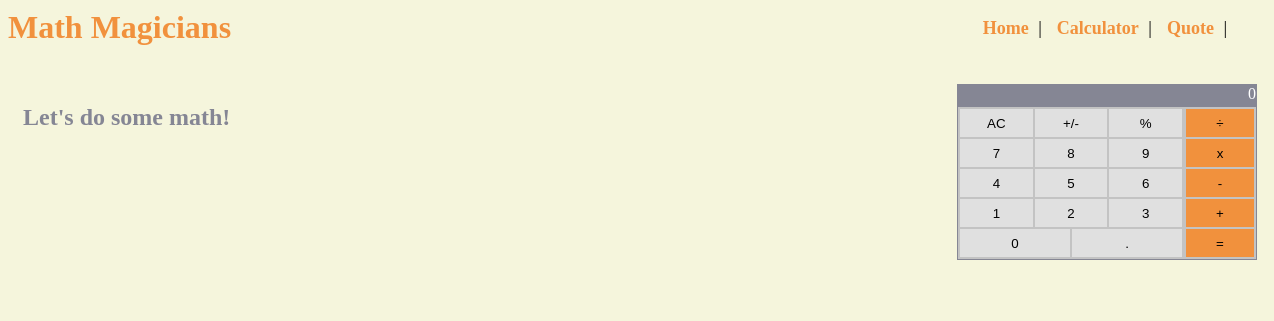
Scenario: App › Change page to Quote and check
Click the link "Quote".
click(1190, 28)  # box [1167,18,1214,38]
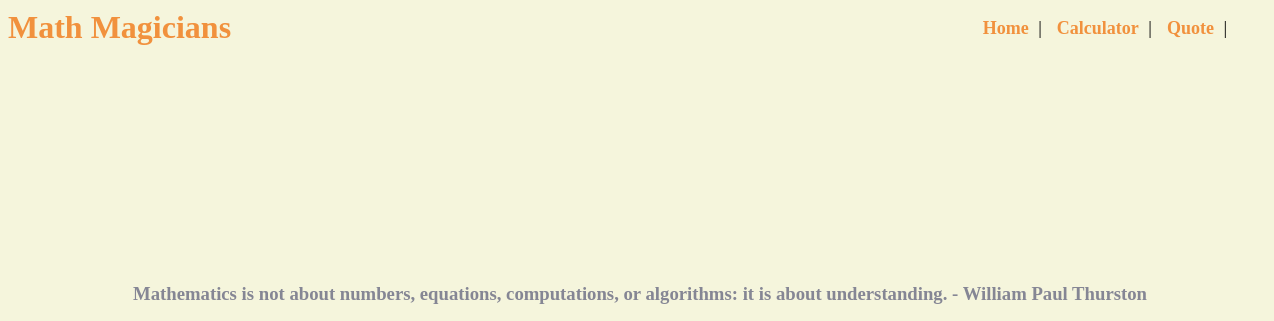
Expected: the heading "Mathematics is not about numbers, equations, computations, or algorithms: it is about understanding. - William Paul Thur" is shown, [133,283,1147,304]
